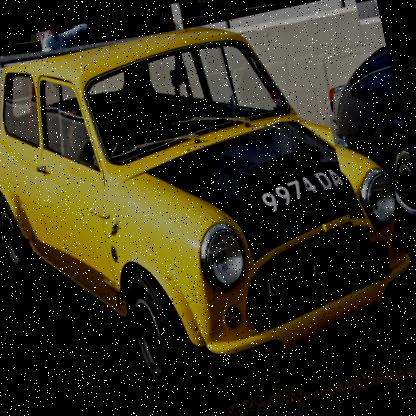Car: (0, 0, 415, 415), (316, 45, 415, 248)
